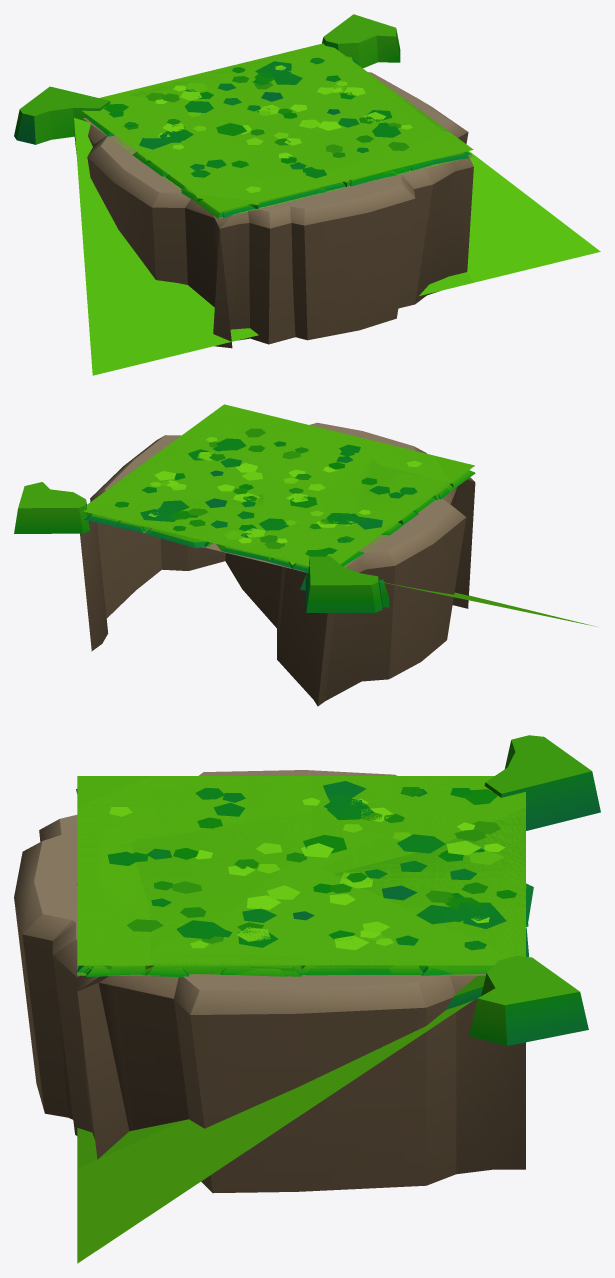
File: GreenTileSets.glb
3 renders of one model, top to bottom at view 1: azimuth 30°, elevation 25°; view 2: azimuth 150°, elevation 25°; view 3: azimuth 270°, elevation 25°, orthographic. The views are drawn at different scales.
Visible parts, largest first — view 1: diagonal_support, block_a, ramp_left, block_d, corner_b, ramp_right, block_c, diagonal_a, center_a, block_b, corner_a, diagonal_b (+4 smaller); view 2: diagonal_support, corner_b, block_d, corner_a, block_a, diagonal_b, diagonal_a, center_a, block_b, ramp_left, ramp_right, center_f (+4 smaller); view 3: corner_a, diagonal_support, block_d, block_b, ramp_right, block_a, diagonal_a, center_a, diagonal_b, ramp_left, corner_b, block_c (+6 smaller).
Part boxes in pixels (left/top/right/bottom): diagonal_support: left=82, top=43, right=473, bottom=348; block_a: left=106, top=45, right=470, bottom=340; ramp_left: left=14, top=86, right=473, bottom=375; block_d: left=110, top=43, right=473, bottom=329; corner_b: left=75, top=79, right=413, bottom=337; ramp_right: left=322, top=14, right=600, bottom=282; block_c: left=172, top=75, right=473, bottom=344; diagonal_a: left=74, top=45, right=473, bottom=271; center_a: left=159, top=45, right=472, bottom=211; block_b: left=115, top=44, right=400, bottom=329; corner_a: left=123, top=65, right=468, bottom=196; diagonal_b: left=130, top=46, right=449, bottom=132; diagonal_support: left=84, top=404, right=474, bottom=572; corner_b: left=185, top=447, right=466, bottom=703; block_d: left=85, top=421, right=454, bottom=565; corner_a: left=80, top=435, right=475, bottom=651; block_a: left=90, top=422, right=452, bottom=565; diagonal_b: left=88, top=422, right=327, bottom=706; diagonal_a: left=86, top=426, right=334, bottom=706; center_a: left=90, top=404, right=474, bottom=564; block_b: left=83, top=424, right=451, bottom=565; ramp_left: left=300, top=556, right=597, bottom=626; ramp_right: left=14, top=482, right=90, bottom=533; center_f: left=84, top=470, right=469, bottom=573; corner_a: left=98, top=787, right=525, bottom=1193; diagonal_support: left=77, top=776, right=525, bottom=975; block_d: left=52, top=776, right=525, bottom=1135; block_b: left=131, top=776, right=525, bottom=966; ramp_right: left=77, top=956, right=588, bottom=1263; block_a: left=14, top=776, right=525, bottom=1139; diagonal_a: left=77, top=833, right=516, bottom=990; center_a: left=77, top=776, right=525, bottom=965; diagonal_b: left=77, top=807, right=525, bottom=1159; ramp_left: left=77, top=735, right=600, bottom=1168; corner_b: left=54, top=770, right=500, bottom=1119; block_c: left=39, top=797, right=488, bottom=968.
Size of the model in its own units: 4 by 1.08 by 2.62.
2 materials, 2 textured.
